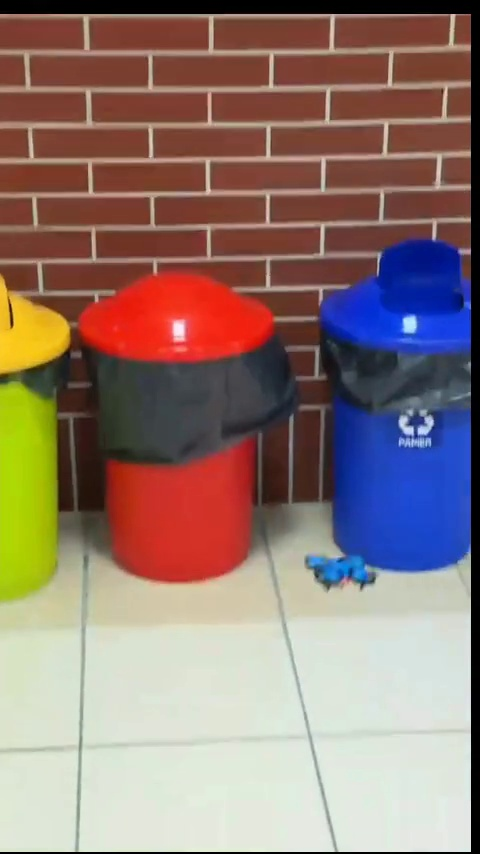drone: (308, 559, 371, 586)
